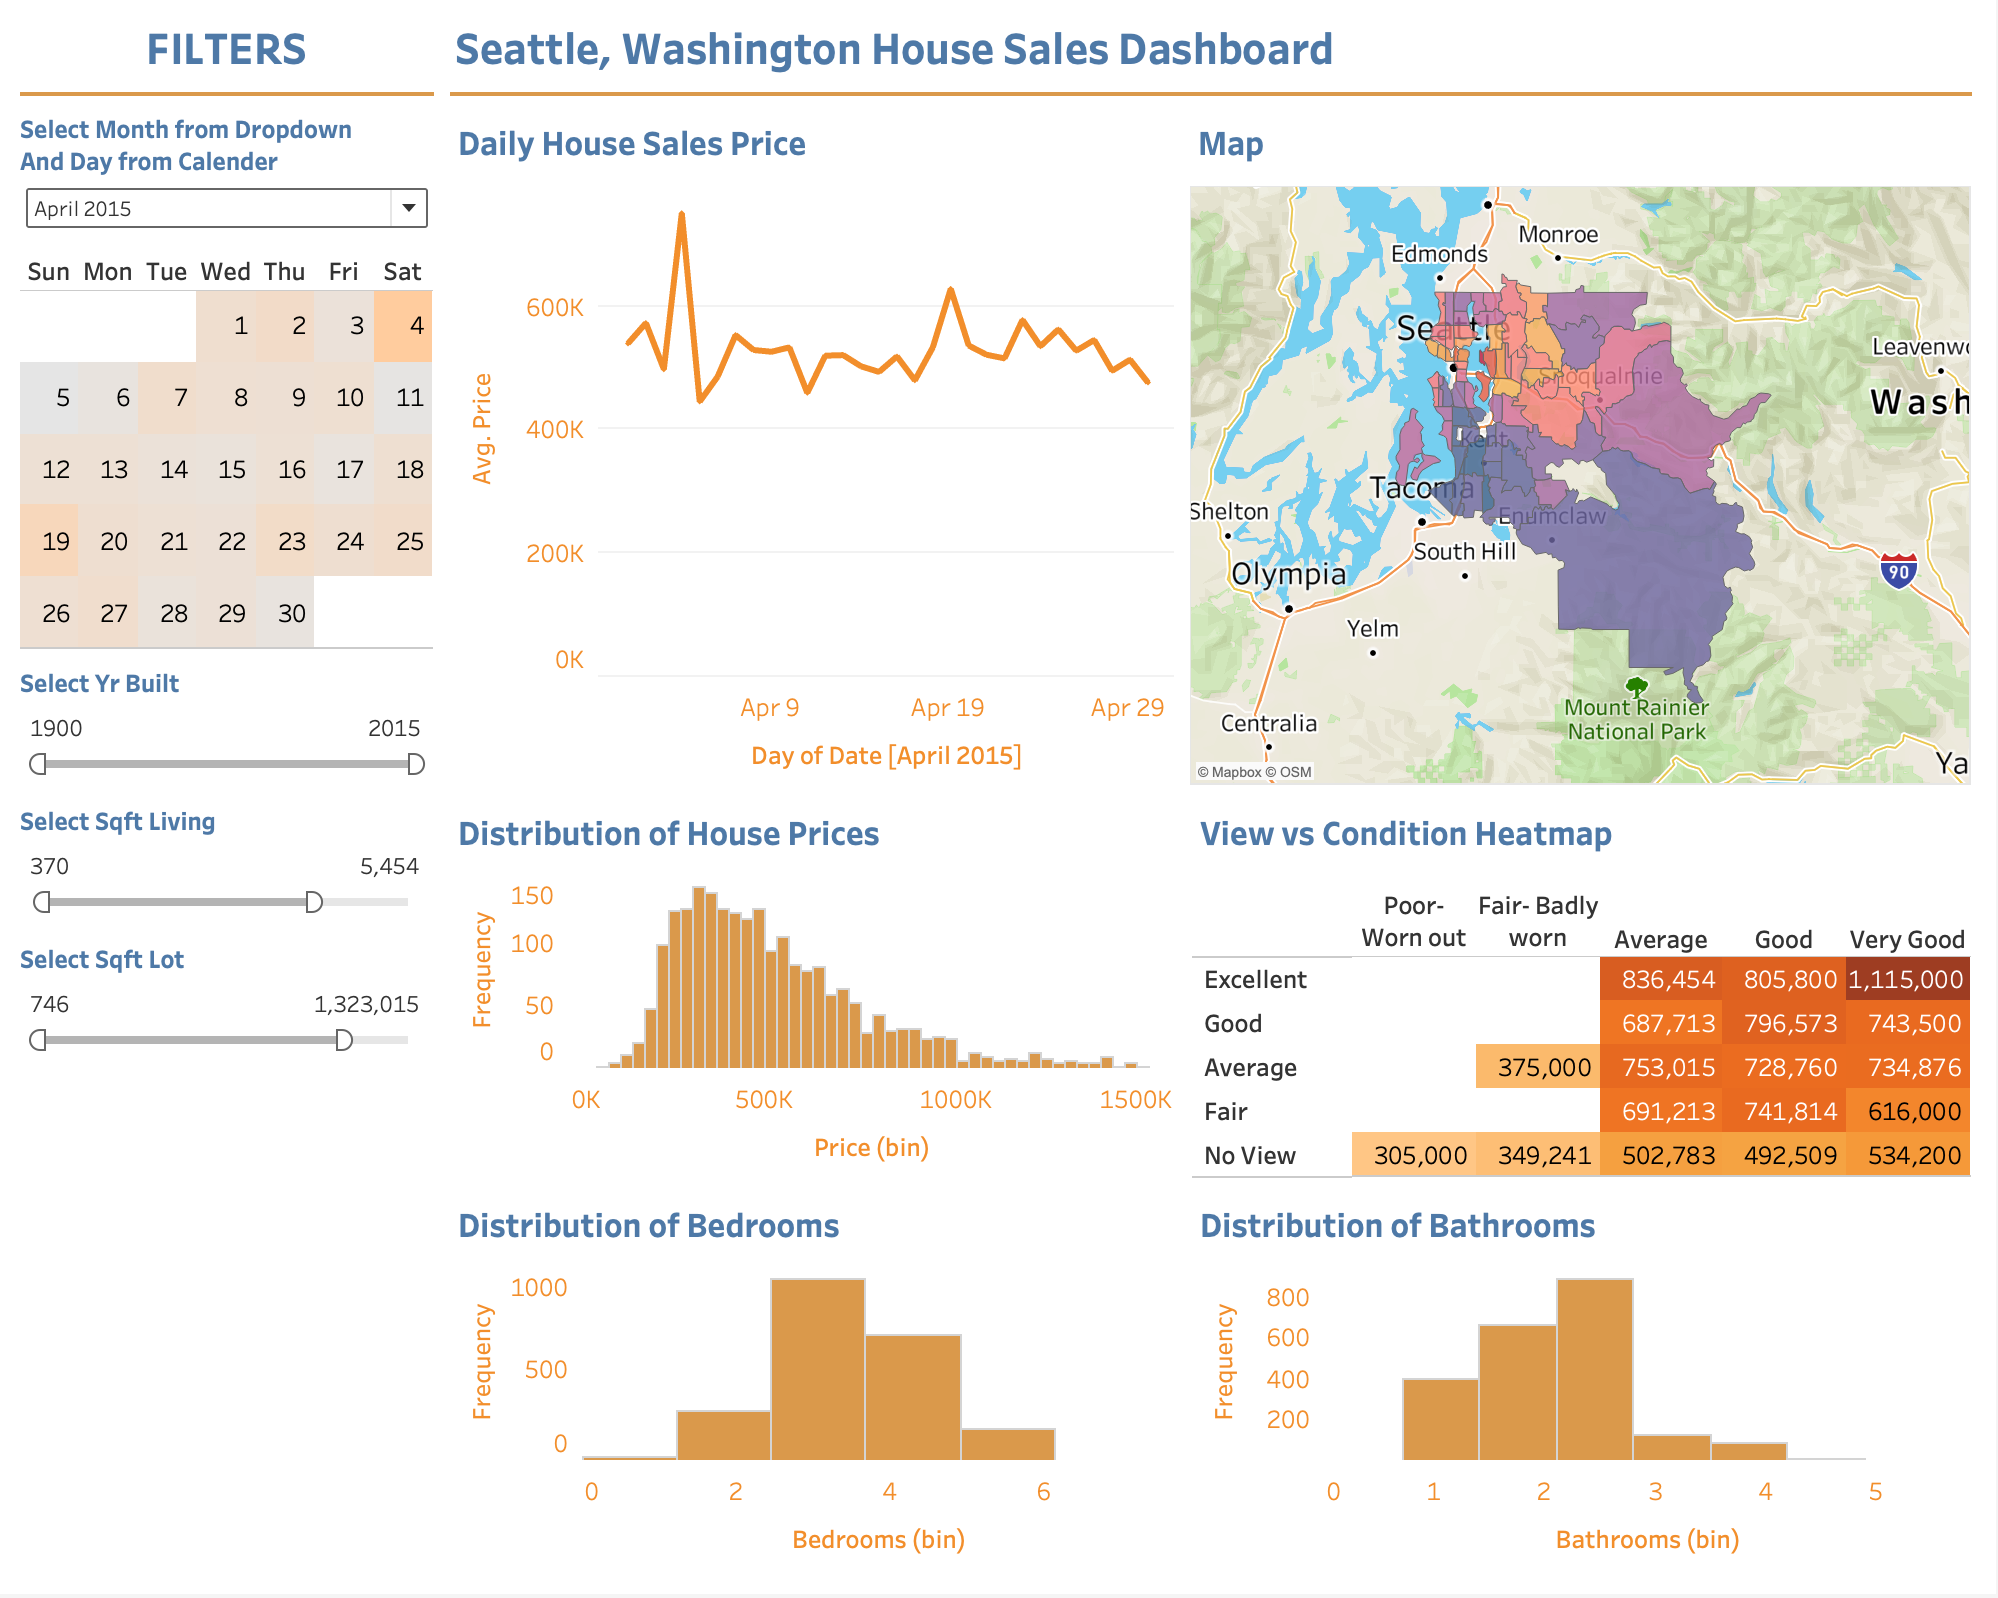

This screenshot's page, from the dashboard's own definition file:
{"tool":"tableau","page":{"name":"KingCountyHouseSales","canvas":[1000,800],"ordinal":0},"visuals":[{"type":"text","box":[8,8,215,37]},{"type":"text","box":[223,8,769,37]},{"type":"blank","box":[8,45,215,10]},{"type":"blank","box":[223,45,769,10]},{"type":"filter","title":"Calender","param":"[federated.07f82di0rf0sew15f0xp10u56o68].[my:date:ok]","box":[8,55,215,69]},{"type":"worksheet","title":"LineChart","mark":"Automatic","rows":["price"],"cols":["date"],"box":[223,55,370.5,345]},{"type":"worksheet","title":"Map","mark":"Automatic","box":[593.5,55,398.5,345]},{"type":"worksheet","title":"Calender","mark":"Square","rows":["date"],"cols":["date"],"box":[8,124,215,208]},{"type":"filter","title":"Calender","param":"[federated.07f82di0rf0sew15f0xp10u56o68].[none:yr_built:qk]","box":[8,332,215,69]},{"type":"worksheet","title":"HistHousePrice","mark":"Automatic","rows":["price"],"cols":["Price (bin)"],"box":[223,400,371,196]},{"type":"worksheet","title":"HeatMap","mark":"Square","rows":["view"],"cols":["condition"],"box":[594,400,398,196]},{"type":"filter","title":"Calender","param":"[federated.07f82di0rf0sew15f0xp10u56o68].[none:sqft_living:qk]","box":[8,401,215,69]},{"type":"filter","title":"Calender","param":"[federated.07f82di0rf0sew15f0xp10u56o68].[none:sqft_lot:qk]","box":[8,470,215,69]},{"type":"worksheet","title":"HistBedrooms","mark":"Automatic","rows":["bedrooms"],"cols":["Bedrooms (bin)"],"box":[223,596,371,196]},{"type":"worksheet","title":"HistBathrooms","mark":"Automatic","rows":["bathrooms"],"cols":["Bathrooms (bin)"],"box":[594,596,398,196]}]}

Visuals, with their boxes in screenshot pixels (x1, y1, x2, y2), scaled from the page's 1000x800 canvas onto the 1998x1598 screenshot:
text: box=[16, 16, 446, 90]
text: box=[446, 16, 1982, 90]
blank: box=[16, 90, 446, 110]
blank: box=[446, 90, 1982, 110]
"Calender" filter: box=[16, 110, 446, 248]
"LineChart" worksheet: box=[446, 110, 1186, 799]
"Map" worksheet: box=[1186, 110, 1982, 799]
"Calender" worksheet (Square marks): box=[16, 248, 446, 663]
"Calender" filter: box=[16, 663, 446, 801]
"HistHousePrice" worksheet: box=[446, 799, 1187, 1191]
"HeatMap" worksheet (Square marks): box=[1187, 799, 1982, 1191]
"Calender" filter: box=[16, 801, 446, 939]
"Calender" filter: box=[16, 939, 446, 1077]
"HistBedrooms" worksheet: box=[446, 1191, 1187, 1582]
"HistBathrooms" worksheet: box=[1187, 1191, 1982, 1582]
